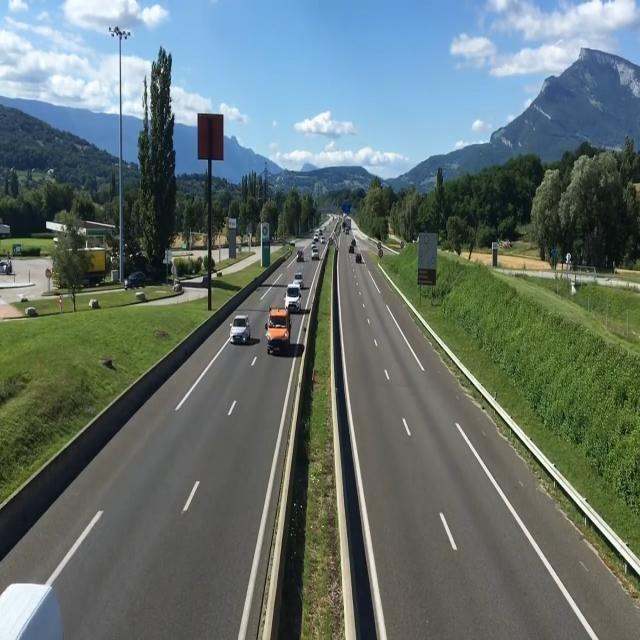Car: (228, 314, 251, 345), (293, 272, 304, 288), (356, 253, 362, 264)
Truck: (264, 305, 291, 355)
Van: (284, 282, 301, 312), (311, 247, 319, 261), (297, 250, 304, 262)
